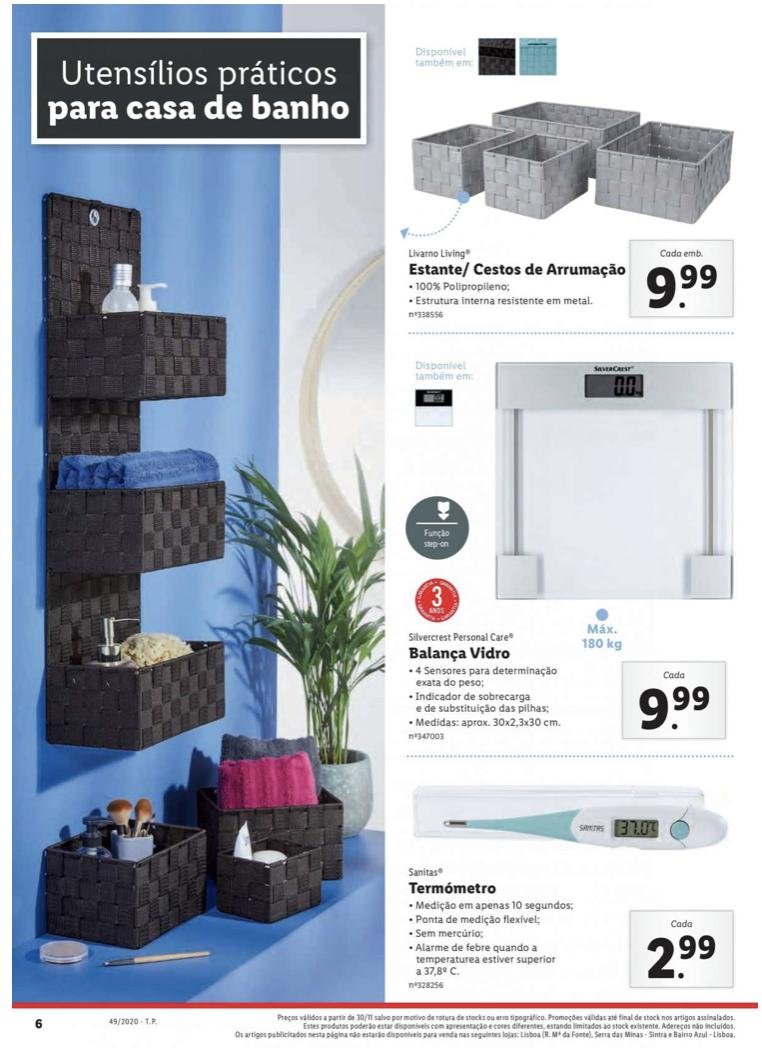name: (404, 259, 631, 281), (403, 877, 506, 902), (404, 643, 514, 663)
price: (635, 682, 715, 739), (640, 932, 720, 986), (645, 261, 720, 311)
product: (407, 346, 741, 747), (400, 88, 752, 318), (399, 772, 744, 1000)
